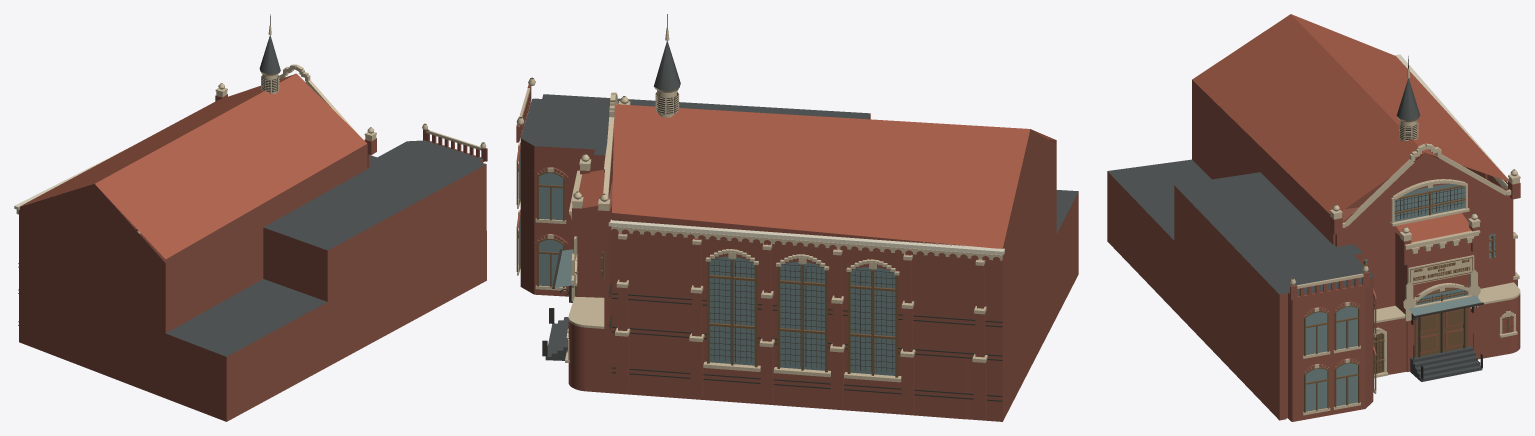
Rendered from oosterparkkerk.glb.
The picture shows the model from 3 angles, left to right: view 1: azimuth 30°, elevation 25°; view 2: azimuth 150°, elevation 25°; view 3: azimuth 270°, elevation 25°; orthographic projection. The views are drawn at different scales.
Parts seen in each view (by area): view 1: oosterparkkerk; view 2: oosterparkkerk; view 3: oosterparkkerk.
Part boxes in pixels (bbox=[...]): oosterparkkerk: bbox=[14, 14, 487, 421]; oosterparkkerk: bbox=[516, 14, 1078, 421]; oosterparkkerk: bbox=[1107, 14, 1520, 421].
Bounding box in the file's own units: 29.25 × 17.26 × 22.93.
